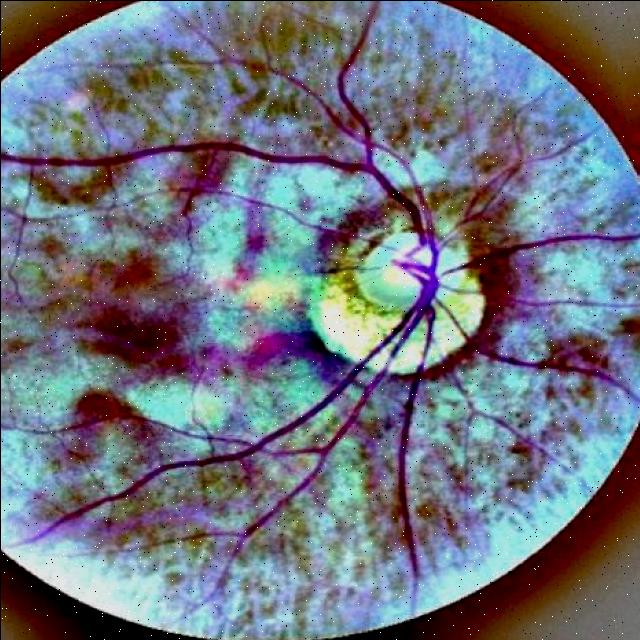Macula: (79, 271, 190, 367)
Nerves: (21, 282, 438, 610), (226, 61, 441, 272)
Optic Disk: (308, 223, 490, 374)
